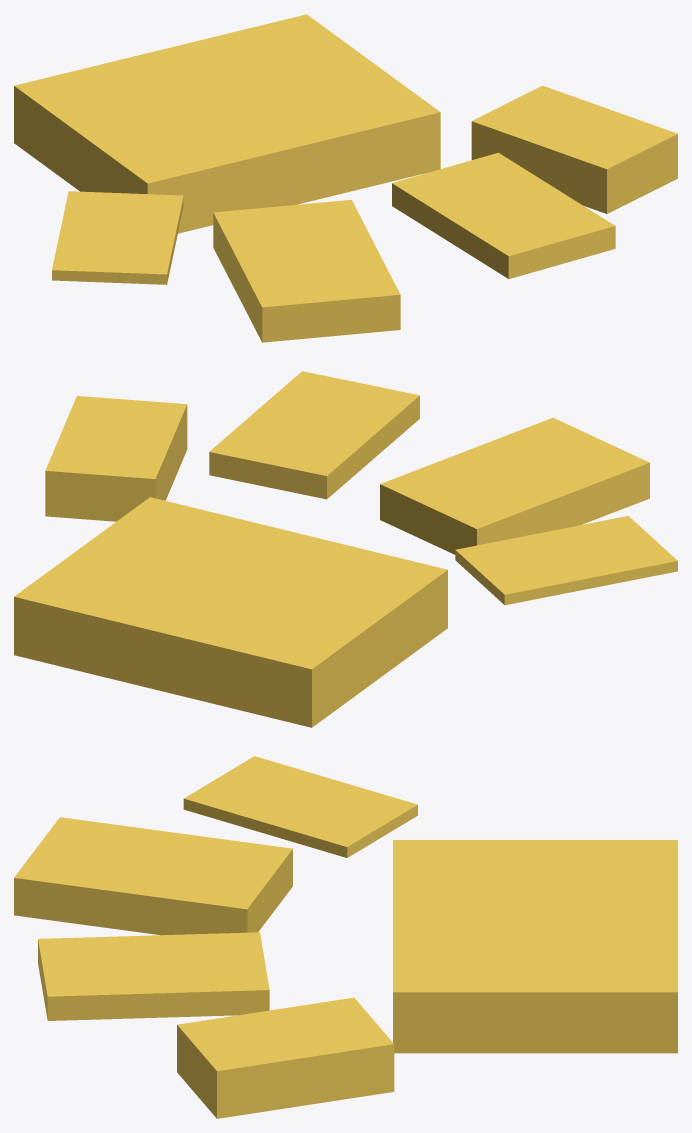
The model's file is thepaw.fbx.
The picture shows the model from 3 angles, top to bottom: view 1: azimuth 30°, elevation 25°; view 2: azimuth 150°, elevation 25°; view 3: azimuth 270°, elevation 25°; orthographic projection. The views are drawn at different scales.
Visible parts, largest first — view 1: paw; view 2: paw; view 3: paw.
Part boxes in pixels (x1,y1,x2,y2): paw: (14, 14, 677, 342); paw: (14, 371, 677, 727); paw: (14, 756, 677, 1118).
Size of the model in its own units: 16.23 by 1.52 by 14.41.
